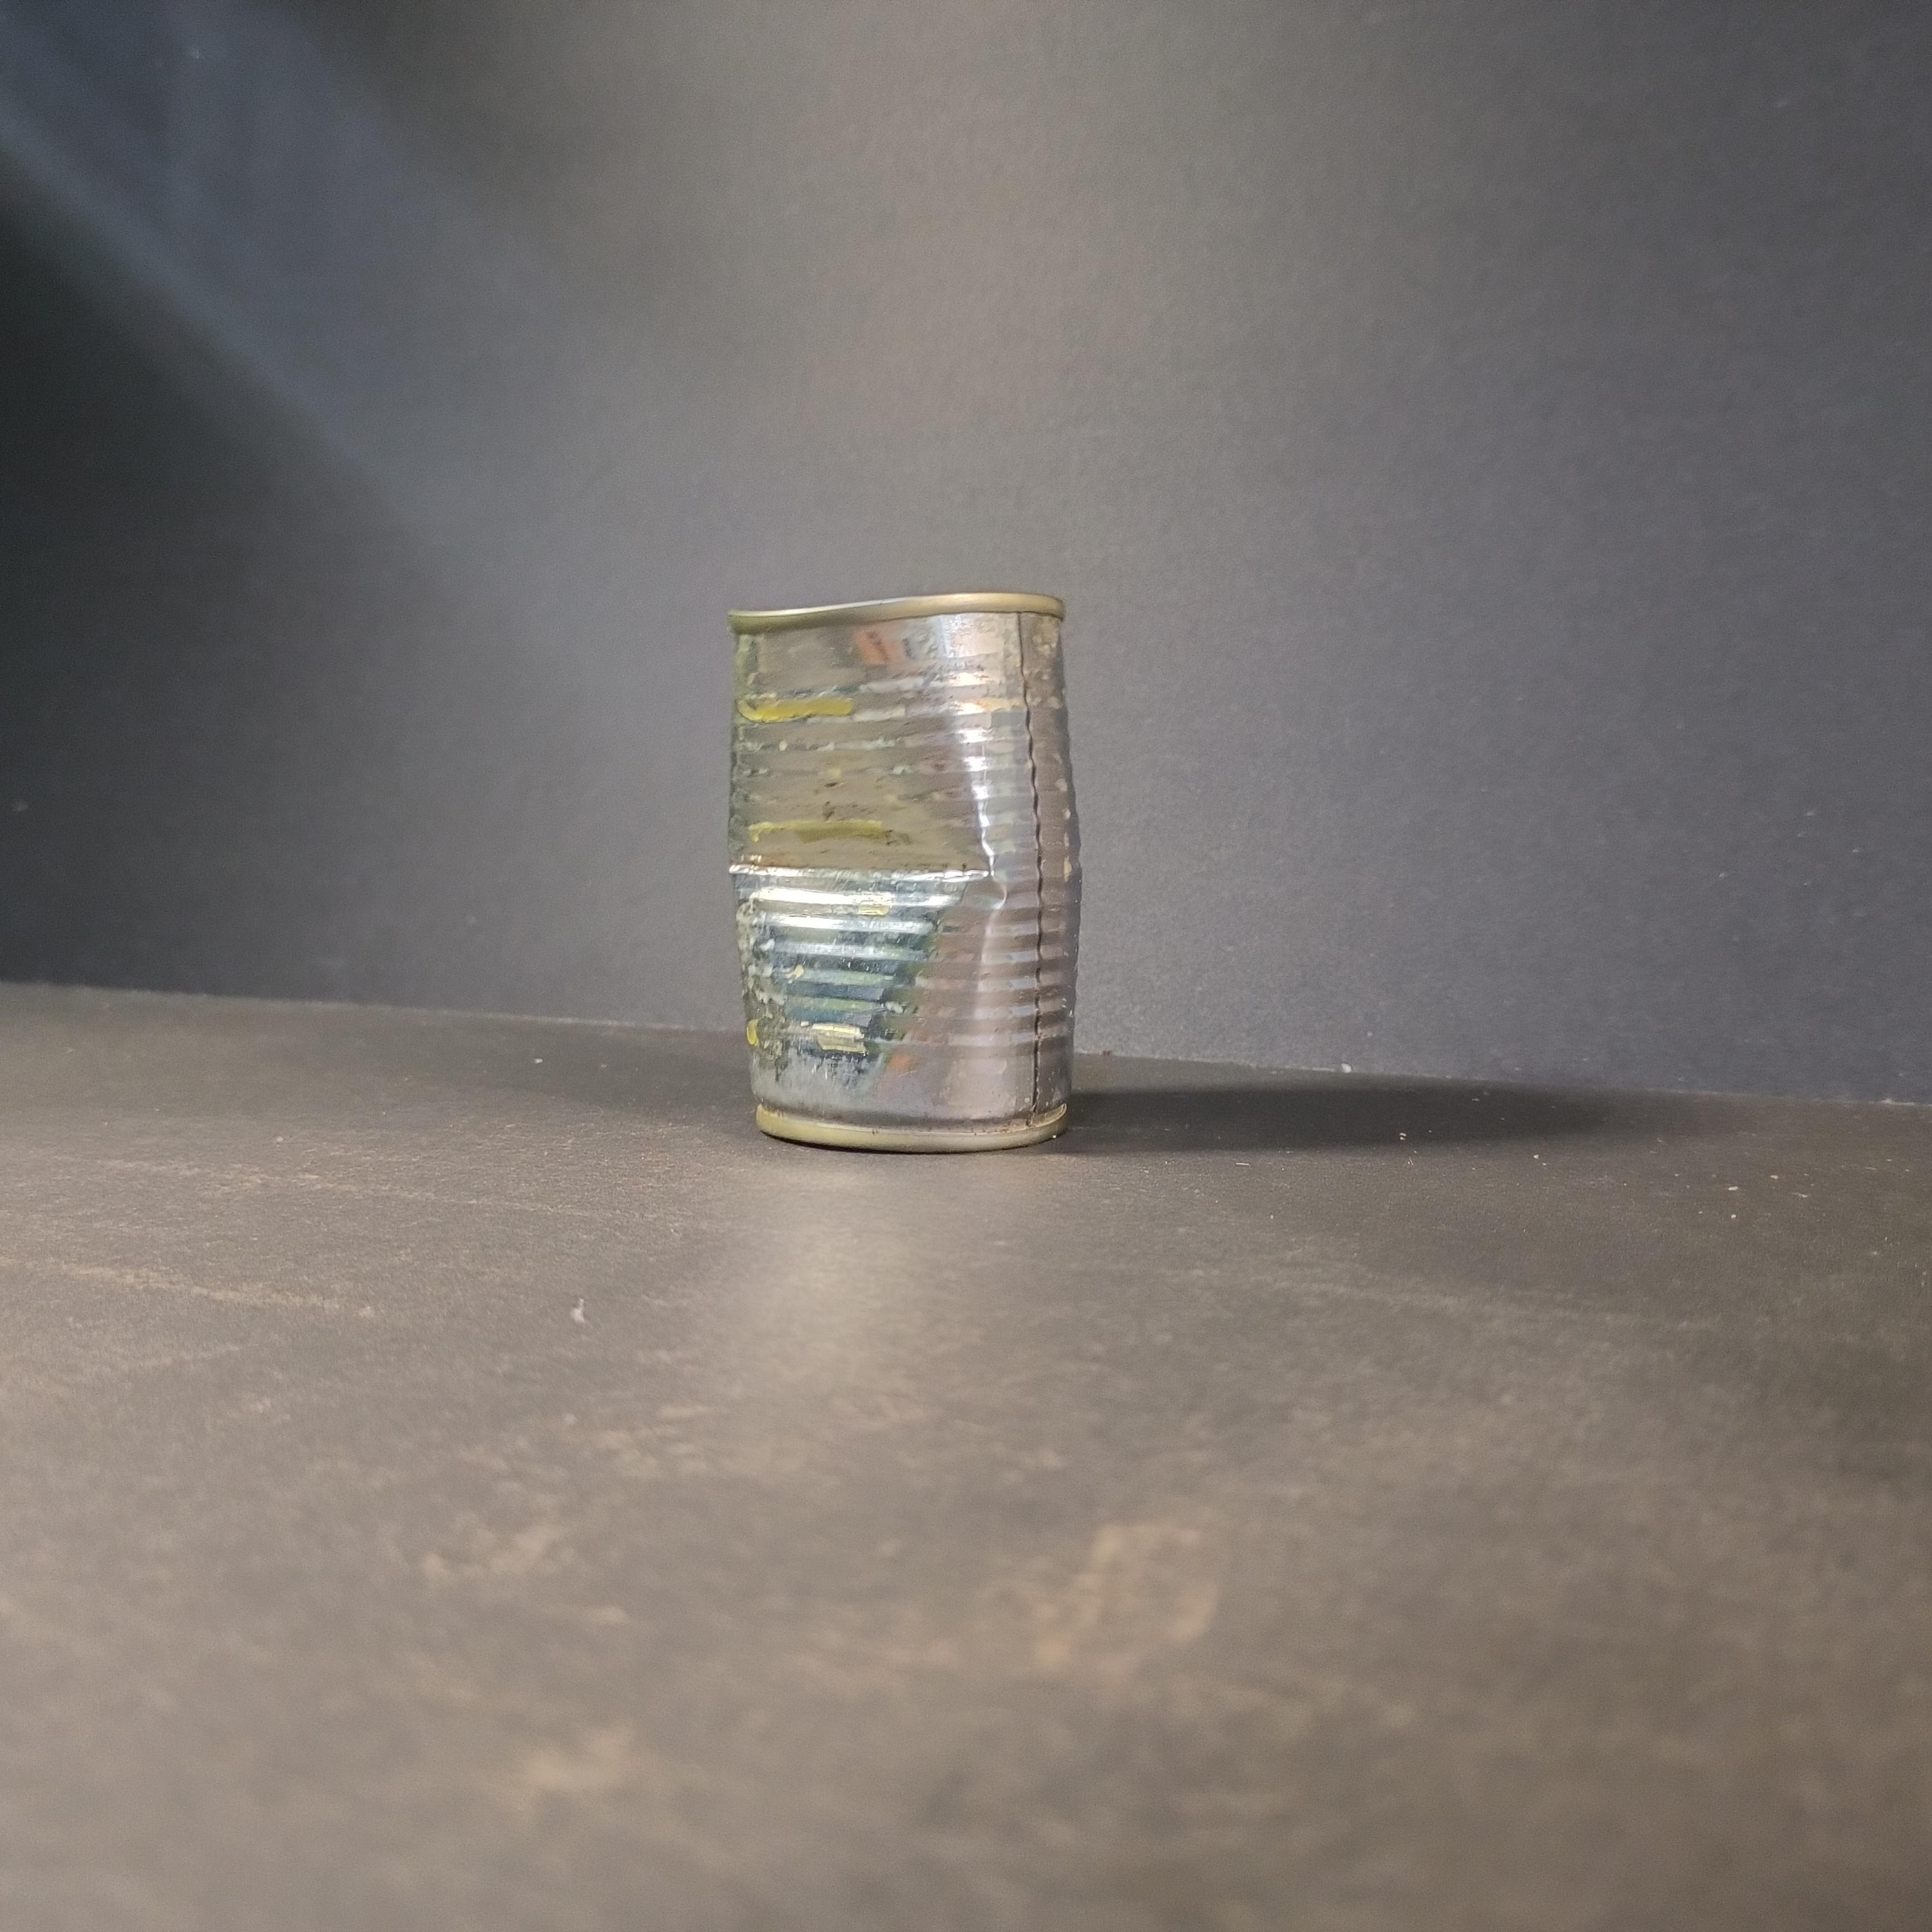Dented: (695, 550, 1116, 1168)
